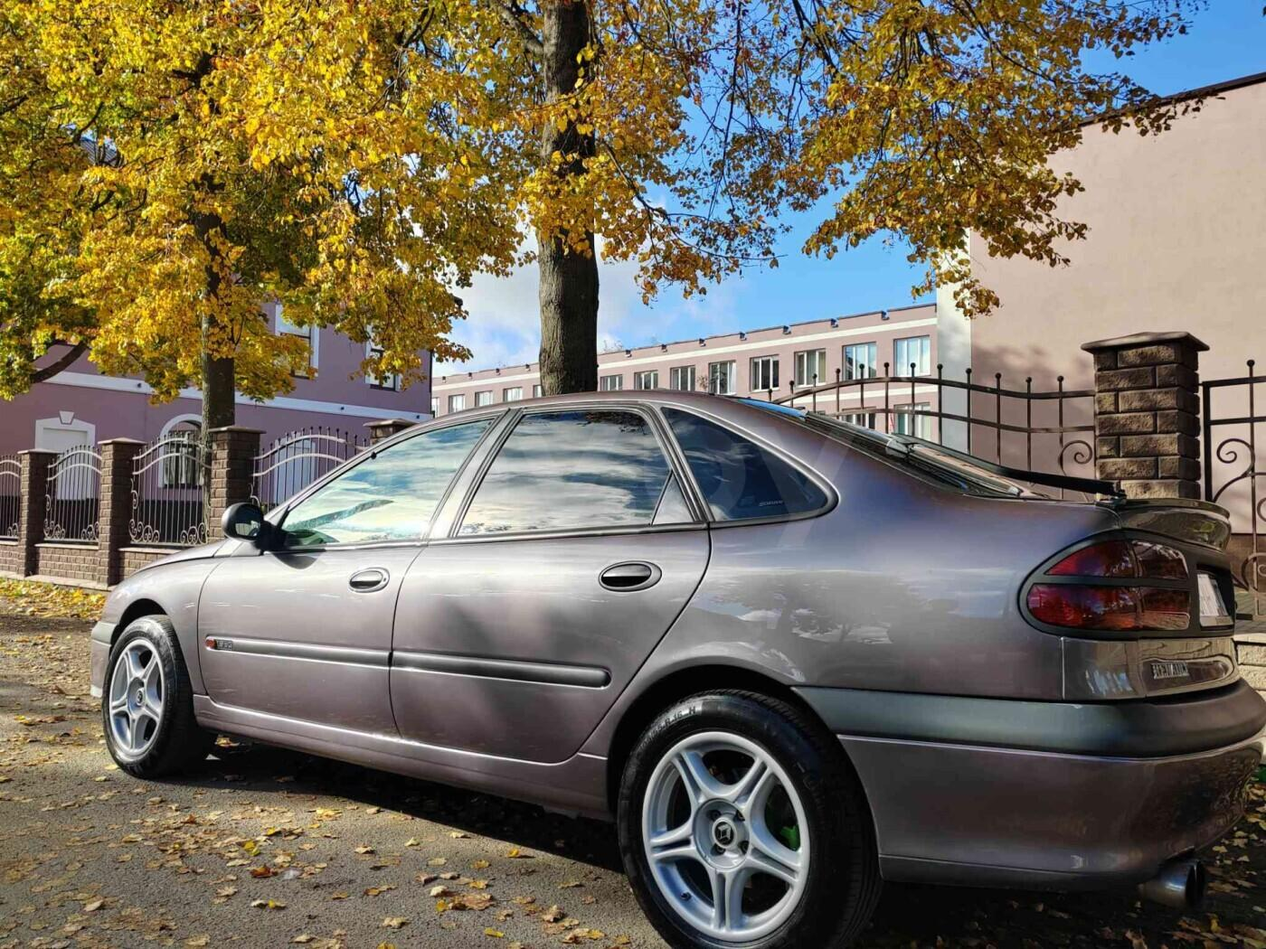Laguna_1998-2001: (89, 390, 1266, 948)
